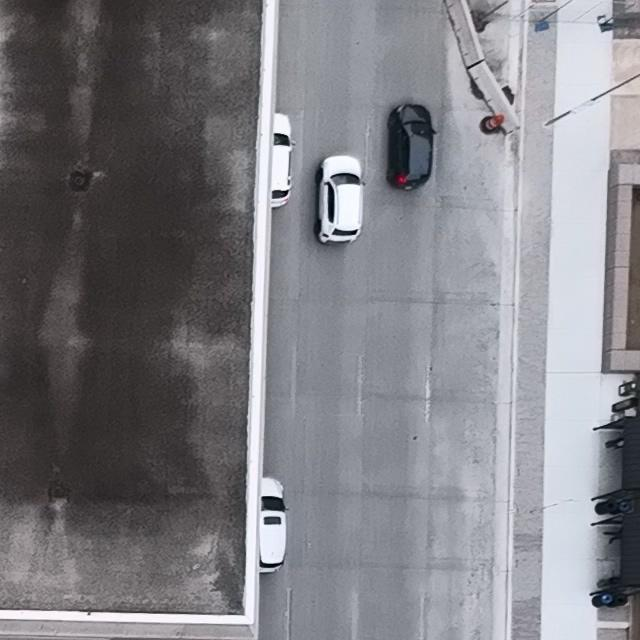car: (314, 154, 366, 245), (385, 103, 437, 192), (258, 477, 288, 574), (269, 113, 295, 210)
